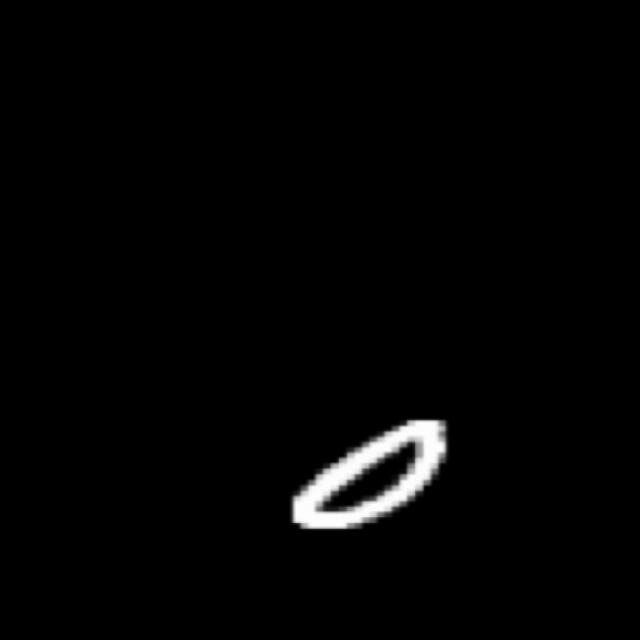zero -0-: (258, 403, 470, 547)
